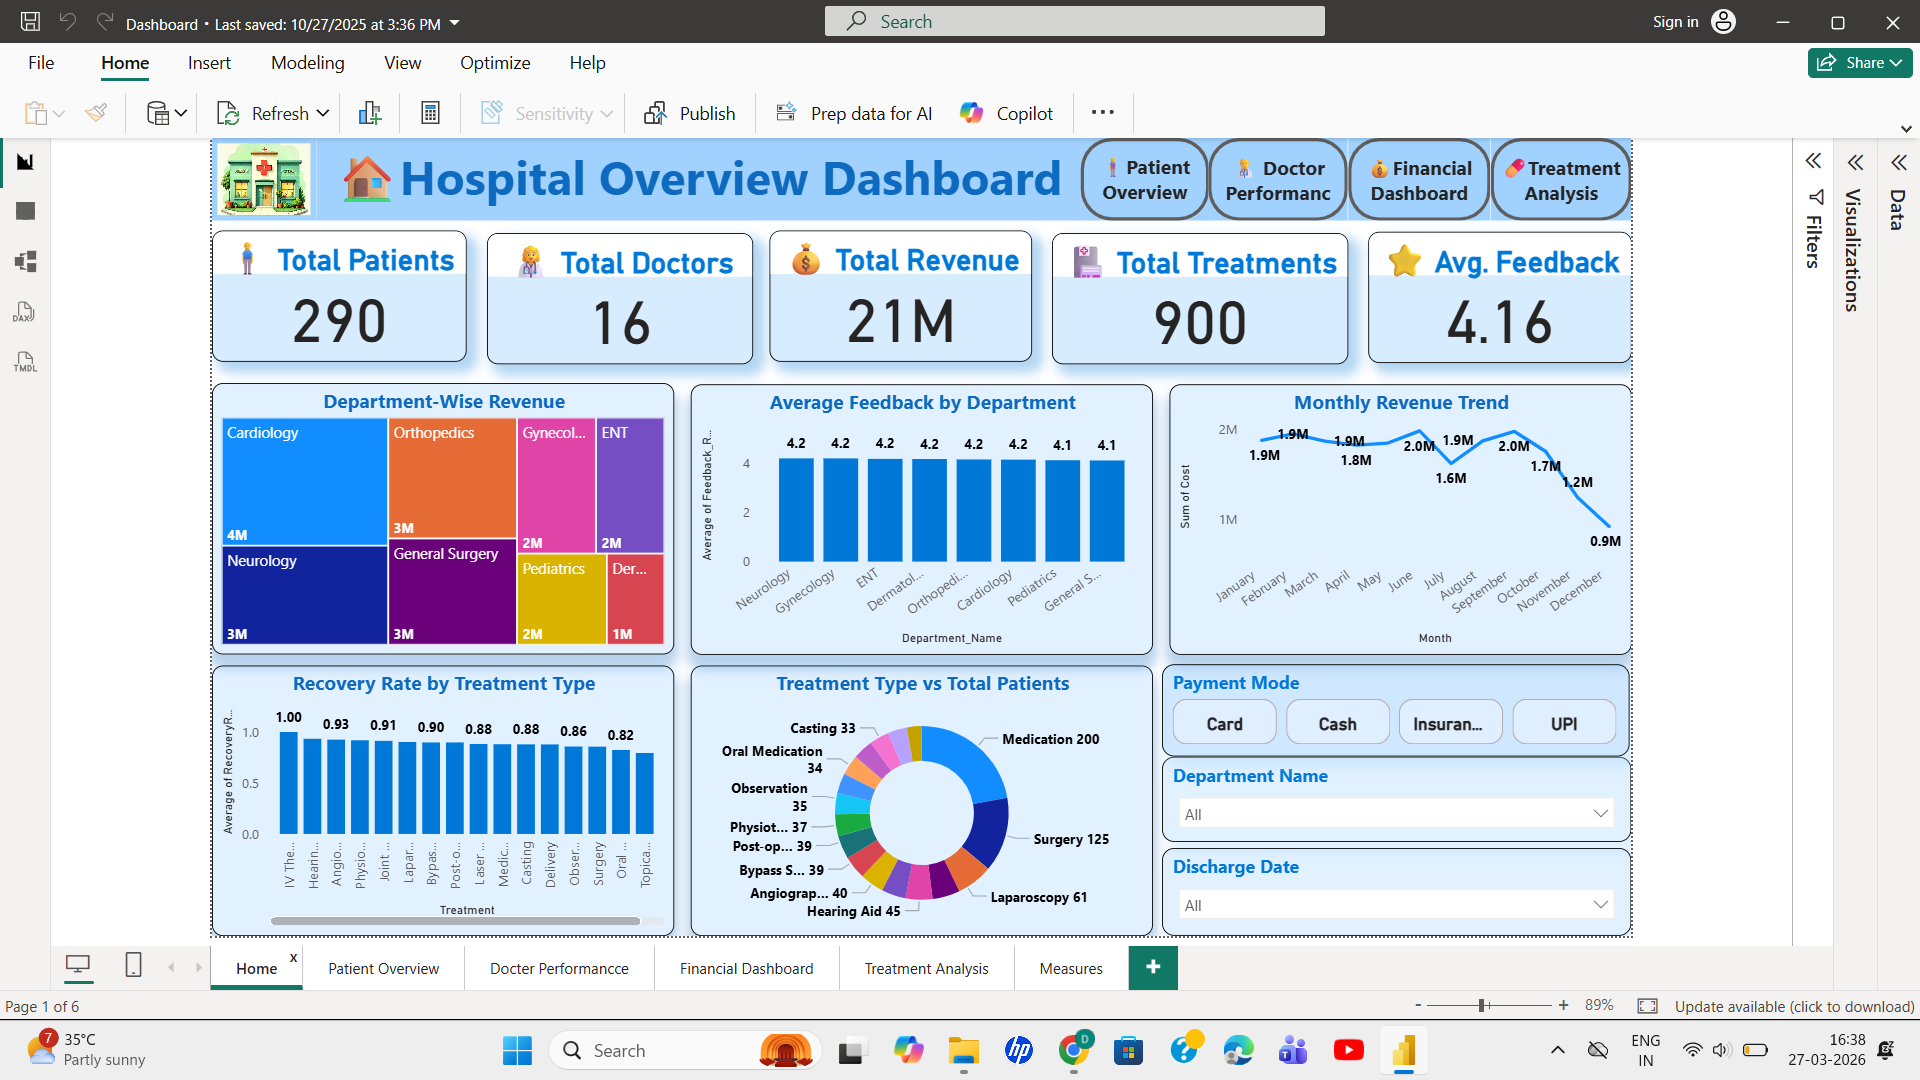

The page's visual inventory and layout, read from the dashboard file:
{"tool":"powerbi","page":{"name":"Home","canvas":[1280,720],"ordinal":0},"visuals":[{"type":"group","id":"g1","title":"Group 1","box":[0,0,782.6,74.6],"z":0},{"type":"textbox","box":[94.2,0,688.5,74.6],"z":0,"group":"g1"},{"type":"card","title":"🧍♂️ Total Patients","fields":{"Values":["Measure.Total Patients"]},"box":[0,82.9,229.3,118.3],"z":0,"group":"g2"},{"type":"image","box":[0,0,94.2,74.6],"z":1000,"group":"g1"},{"type":"group","id":"g2","title":"Group 2","box":[0,82.9,1280.5,120],"z":1000},{"type":"card","title":"👩⚕️ Total Doctors","fields":{"Values":["Measure.Total Doctors"]},"box":[247.6,84.6,240.2,118.3],"z":1000,"group":"g2"},{"type":"slicer","title":"Department Name","fields":{"Values":["DimDepartment.Department_Name"]},"box":[856.9,557.6,423.1,77],"z":1000,"group":"g3"},{"type":"card","title":"💰 Total Revenue","fields":{"Values":["Measure.Total Revenue"]},"box":[502.4,83.2,236.6,118.3],"z":2000,"group":"g2"},{"type":"treemap","title":"Department-Wise Revenue","fields":{"Group":["DimDepartment.Department_Name"],"Values":["Sum(FactPatientVisit.Cost)"]},"box":[0,220.7,417.1,245.1],"z":2000},{"type":"slicer","title":"Discharge Date","fields":{"Values":["FactPatientVisit.Discharge_Date"]},"box":[856.6,640.5,423.1,79.5],"z":2000,"group":"g3"},{"type":"card","title":"⭐ Avg. Feedback","fields":{"Values":["Measure.Average Feedback"]},"box":[1042.7,84.1,237.8,118.3],"z":3000,"group":"g2"},{"type":"donutChart","title":"Treatment Type vs Total Patients","fields":{"Category":["FactPatientVisit.Treatment"],"Y":["CountNonNull(FactPatientVisit.Patient_ID)"]},"box":[431.7,475.6,417.1,243.9],"z":3000},{"type":"card","title":"🏥 Total Treatments","fields":{"Values":["Measure.Total Treatments"]},"box":[757.3,84.7,267.1,118.3],"z":4000,"group":"g2"},{"type":"lineChart","title":"Monthly Revenue Trend","fields":{"Y":["Sum(FactPatientVisit.Cost)"],"Category":["DimDate.Date.Variation.Date Hierarchy.Year","DimDate.Date.Variation.Date Hierarchy.Quarter","DimDate.Date.Variation.Date Hierarchy.Month","DimDate.Date.Variation.Date Hierarchy.Day"]},"box":[863.4,222,417.1,243.9],"z":4000},{"type":"clusteredColumnChart","title":"Recovery Rate by Treatment Type","fields":{"Category":["FactPatientVisit.Treatment"],"Y":["Avg(FactPatientVisit.RecoveryRateFlag)"]},"box":[0,475.6,417.1,243.9],"z":5000},{"type":"columnChart","title":"Average Feedback by Department","fields":{"Category":["DimDepartment.Department_Name"],"Y":["Avg(FactPatientVisit.Feedback_Rating)"]},"box":[431.7,222,417.1,243.9],"z":6000},{"type":"group","id":"g3","title":"Group 3","box":[856.6,474.4,423.4,245.6],"z":7000},{"type":"actionButton","box":[782.9,0,115.9,74.4],"z":8000},{"type":"advancedSlicerVisual","title":"Payment Mode","fields":{"Values":["FactPatientVisit.Payment_Mode"]},"box":[856.7,474.4,422,82.9],"z":8000,"group":"g3"},{"type":"actionButton","box":[898.8,0,126,74.6],"z":9000},{"type":"actionButton","box":[1024.7,0,128.4,74.6],"z":10000},{"type":"actionButton","box":[1152.8,0,127.2,74.6],"z":11000}]}

Visuals, with their boxes on the page's 1280x720 design canvas (x1, y1, x2, y2). These are canvas units, not pixel positions in the 1920x1080 screenshot, which may show the page scaled, cropped or inside an application window:
"Group 1" group: 0:0:783:75
textbox: 94:0:783:75
"🧍♂️ Total Patients" card: 0:83:229:201
image: 0:0:94:75
"Group 2" group: 0:83:1280:203
"👩⚕️ Total Doctors" card: 248:85:488:203
"Department Name" slicer: 857:558:1280:635
"💰 Total Revenue" card: 502:83:739:202
"Department-Wise Revenue" treemap: 0:221:417:466
"Discharge Date" slicer: 857:640:1280:720
"⭐ Avg. Feedback" card: 1043:84:1280:202
"Treatment Type vs Total Patients" donutChart: 432:476:849:720
"🏥 Total Treatments" card: 757:85:1024:203
"Monthly Revenue Trend" lineChart: 863:222:1280:466
"Recovery Rate by Treatment Type" clusteredColumnChart: 0:476:417:720
"Average Feedback by Department" columnChart: 432:222:849:466
"Group 3" group: 857:474:1280:720
actionButton: 783:0:899:74
"Payment Mode" advancedSlicerVisual: 857:474:1279:557
actionButton: 899:0:1025:75
actionButton: 1025:0:1153:75
actionButton: 1153:0:1280:75
